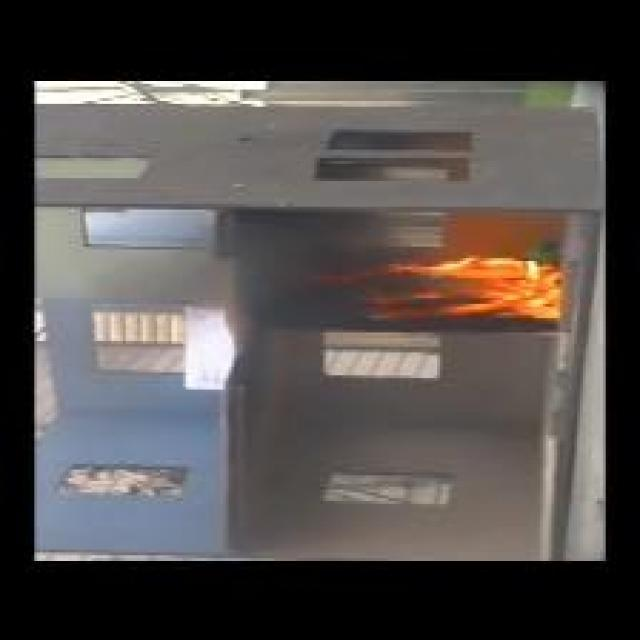Fire: (314, 258, 562, 324)
